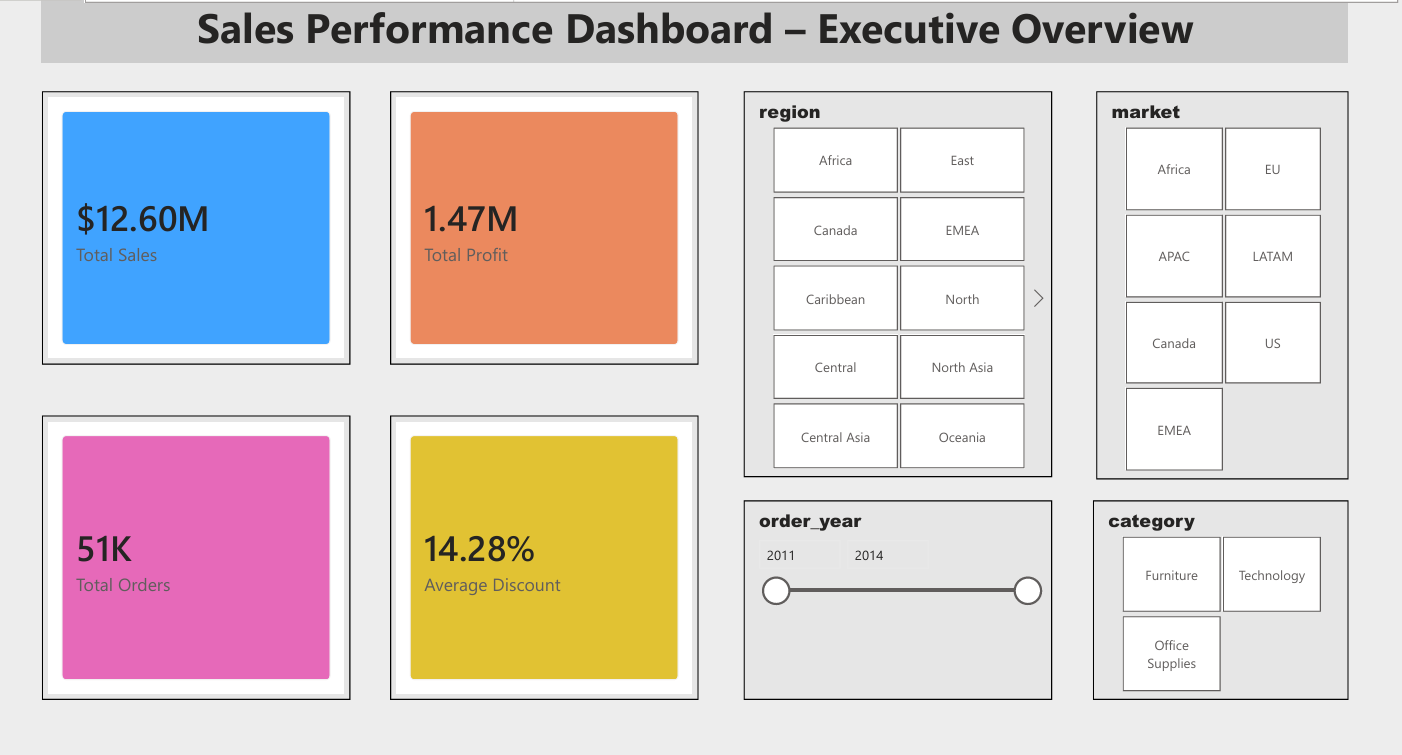

The dashboard page shown, as its layout file describes it:
{"tool":"powerbi","page":{"name":"Page 1","canvas":[1280,720],"ordinal":0},"visuals":[{"type":"cardVisual","fields":{"Data":["dataanlystdata.Total Sales"]},"box":[44,114,280,248],"z":0},{"type":"cardVisual","fields":{"Data":["dataanlystdata.Total Orders"]},"box":[44,408,280,258],"z":1000},{"type":"cardVisual","fields":{"Data":["dataanlystdata.Total Profit"]},"box":[360,114,280,248],"z":2000},{"type":"cardVisual","fields":{"Data":["dataanlystdata.Average Discount"]},"box":[360,408,280,258],"z":3000},{"type":"slicer","fields":{"Values":["dataanlystdata.order_year"]},"box":[681.1,485.5,280,181],"z":4000},{"type":"slicer","fields":{"Values":["dataanlystdata.region"]},"box":[681.2,113.8,280,350],"z":5000},{"type":"slicer","fields":{"Values":["dataanlystdata.market"]},"box":[1001.2,113.8,228.8,352.5],"z":6000},{"type":"slicer","fields":{"Values":["dataanlystdata.category"]},"box":[997.8,485.5,232.3,181],"z":7000},{"type":"textbox","box":[43.8,25,1186.2,62.5],"z":8000}]}

Visuals, with their boxes in screenshot pixels (x1, y1, x2, y2):
cardVisual - dataanlystdata.Total Sales: pyautogui.locateOnScreen(31, 83, 342, 359)
cardVisual - dataanlystdata.Total Orders: pyautogui.locateOnScreen(31, 410, 342, 697)
cardVisual - dataanlystdata.Total Profit: pyautogui.locateOnScreen(382, 83, 694, 359)
cardVisual - dataanlystdata.Average Discount: pyautogui.locateOnScreen(382, 410, 694, 697)
slicer - dataanlystdata.order_year: pyautogui.locateOnScreen(740, 496, 1051, 698)
slicer - dataanlystdata.region: pyautogui.locateOnScreen(740, 83, 1051, 472)
slicer - dataanlystdata.market: pyautogui.locateOnScreen(1096, 83, 1350, 475)
slicer - dataanlystdata.category: pyautogui.locateOnScreen(1092, 496, 1350, 698)
textbox: pyautogui.locateOnScreen(30, 0, 1350, 54)
